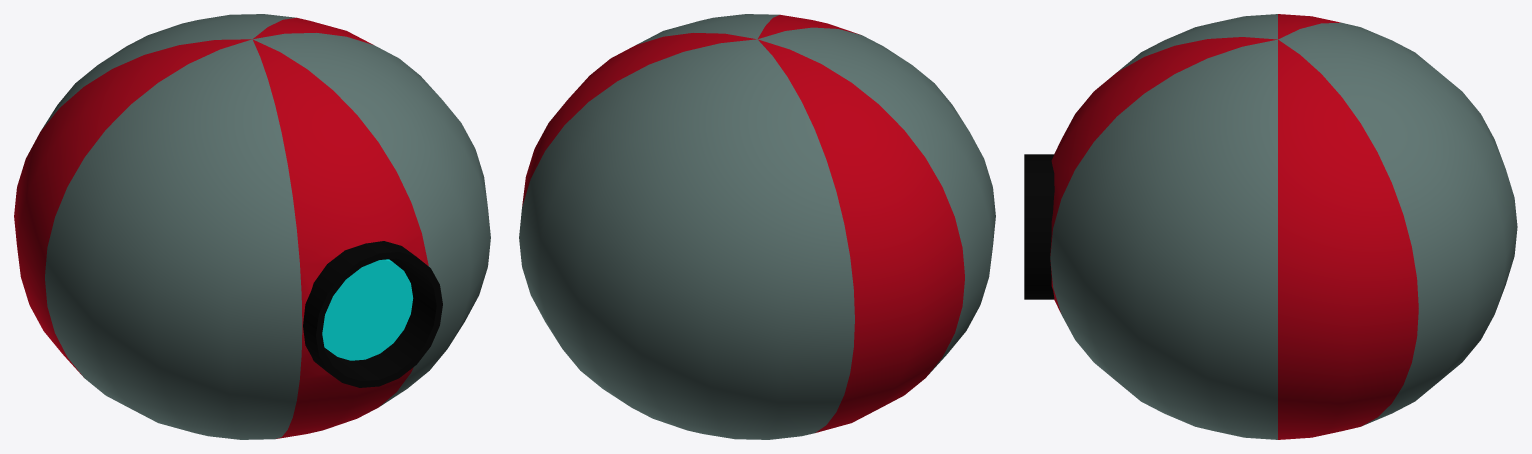
The model's file is Help_Bot.fbx.
3 renders of one model, left to right at view 1: azimuth 30°, elevation 25°; view 2: azimuth 150°, elevation 25°; view 3: azimuth 270°, elevation 25°, orthographic.
Visible parts, largest first — view 1: pSphere1, pCylinder1; view 2: pSphere1; view 3: pSphere1, pCylinder1.
Boxes of the visible parts, left/top/right/bottom form: pSphere1: left=14, top=14, right=490, bottom=439; pCylinder1: left=303, top=241, right=442, bottom=387; pSphere1: left=519, top=14, right=995, bottom=439; pSphere1: left=1050, top=14, right=1517, bottom=439; pCylinder1: left=1024, top=154, right=1054, bottom=299.
Size of the model in its own units: 10 by 8.64 by 10.3.
